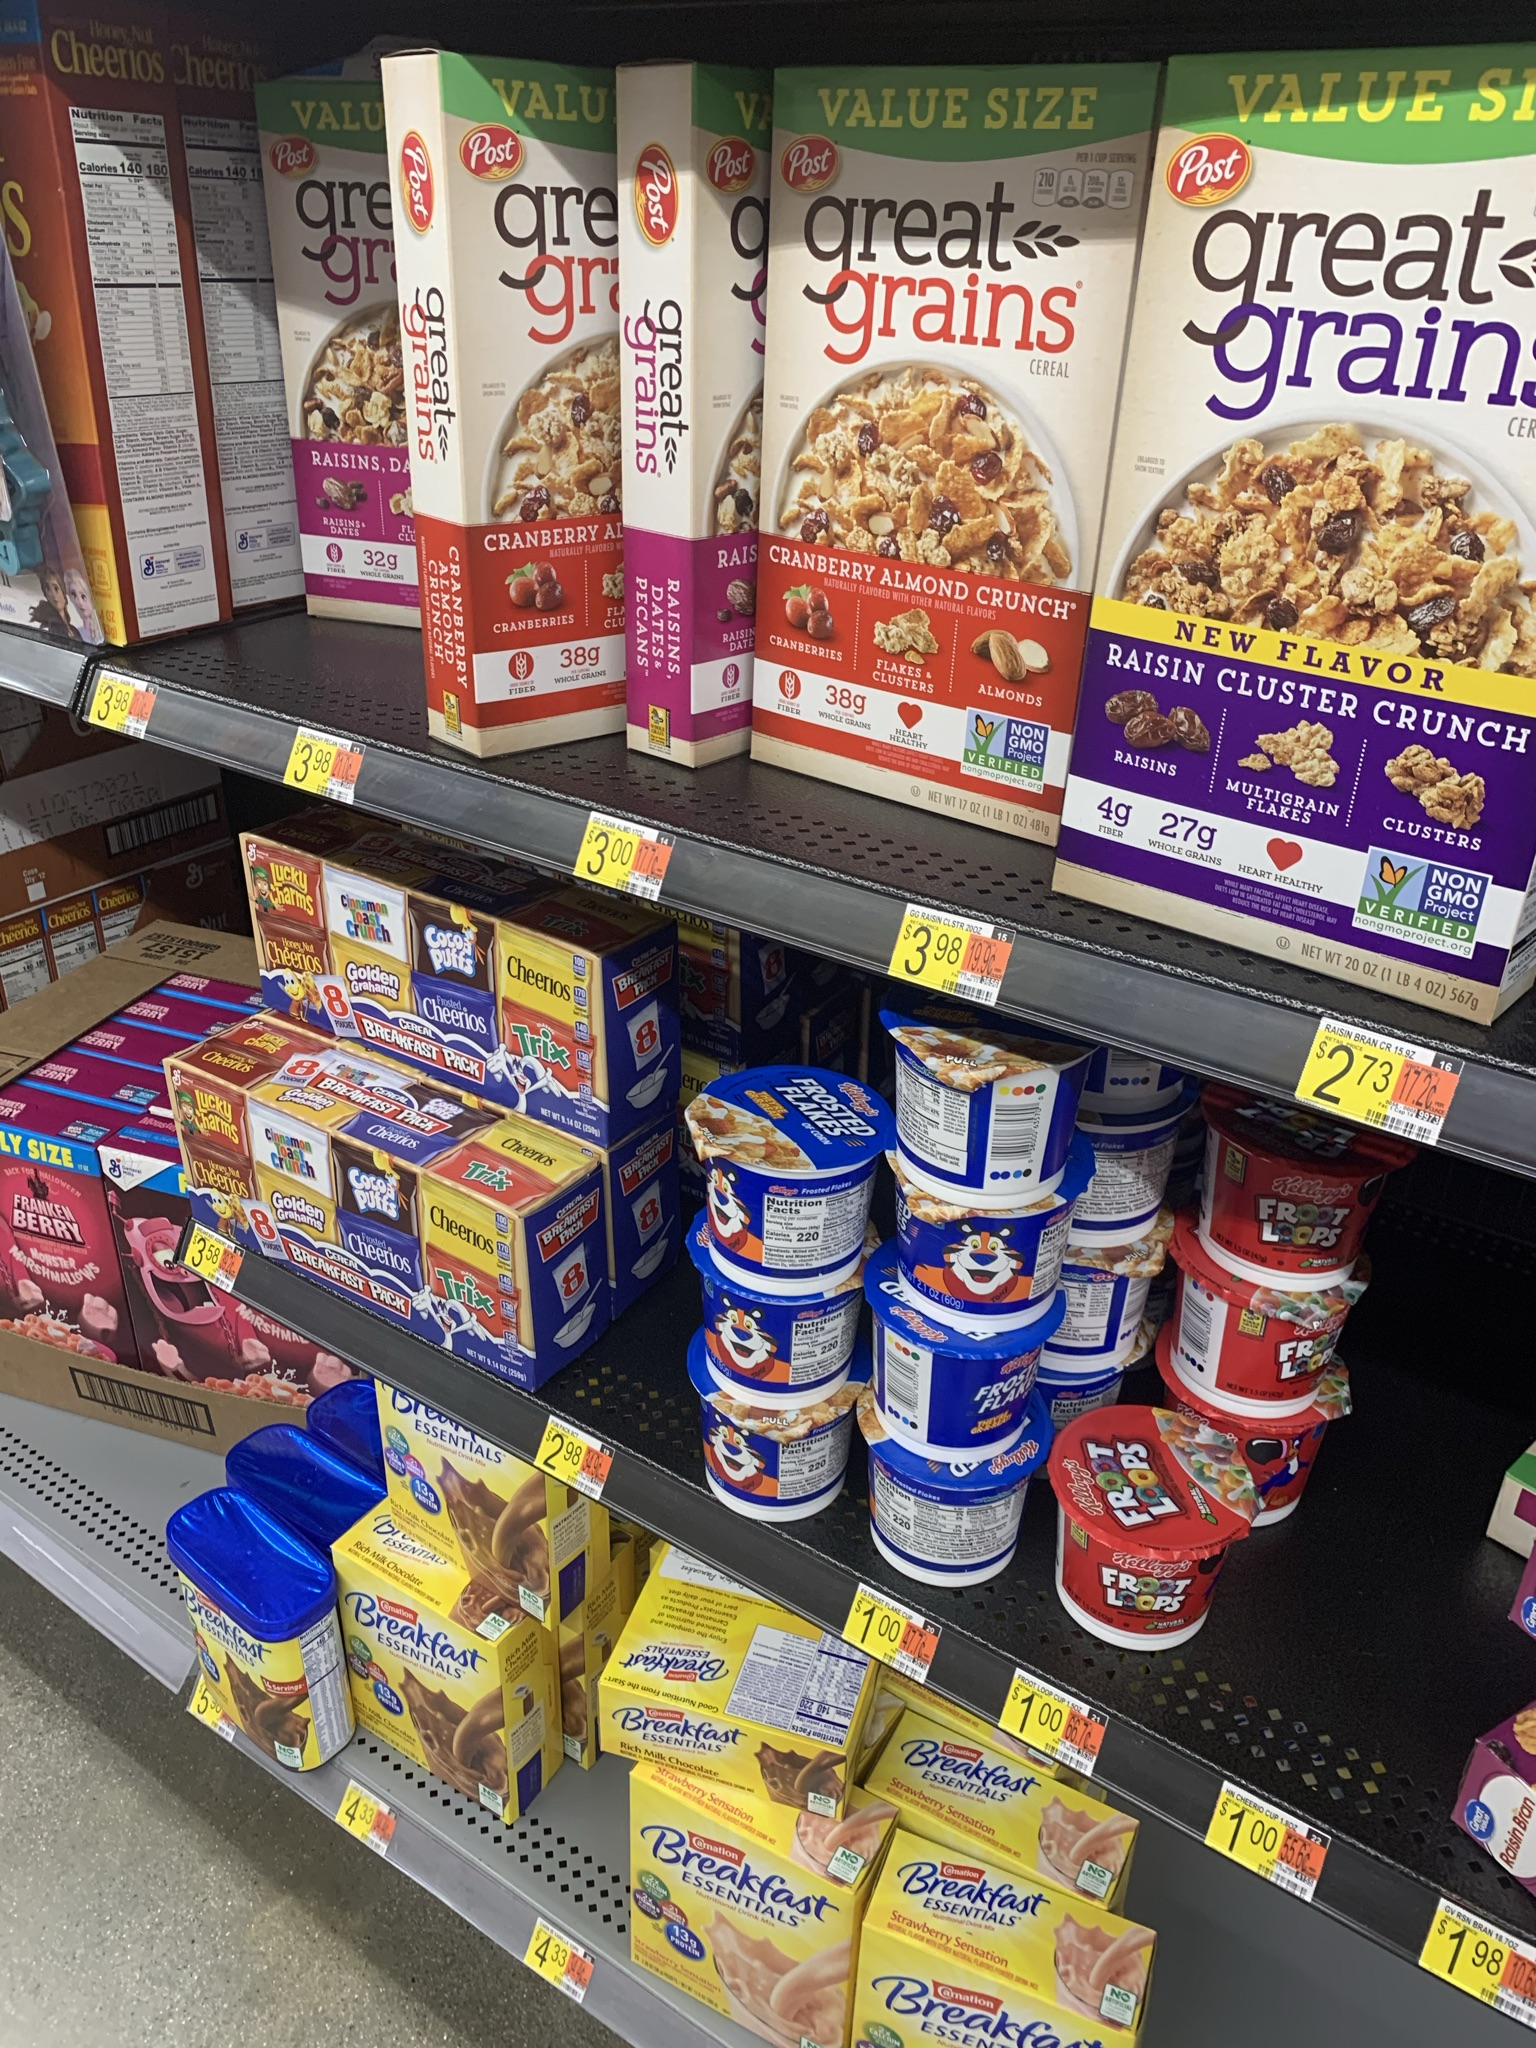box: (1154, 148, 1536, 919), (776, 153, 1070, 761), (410, 77, 608, 705), (623, 106, 721, 734), (623, 1830, 841, 1988), (360, 1617, 494, 1779)
